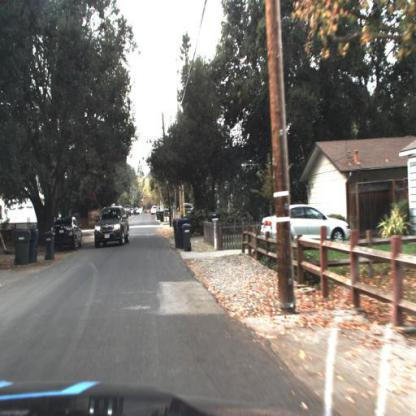car: (259, 205, 353, 242), (94, 206, 131, 248), (53, 216, 82, 252), (177, 203, 195, 217), (150, 205, 160, 216)
